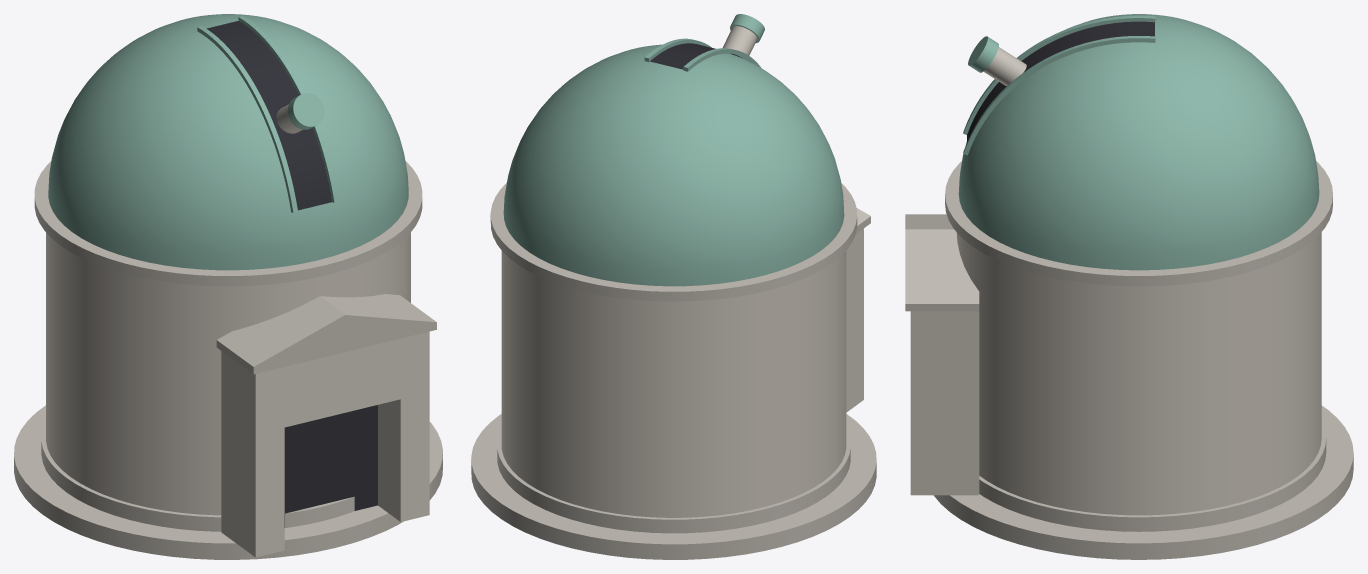
File: SM_Obs_Exterior.fbx
3 views of the same model, side by side, from view 1: azimuth 30°, elevation 25°; view 2: azimuth 150°, elevation 25°; view 3: azimuth 270°, elevation 25° (orthographic). The views are drawn at different scales.
Parts seen in each view (by area): view 1: SM_Obs_Exterior; view 2: SM_Obs_Exterior; view 3: SM_Obs_Exterior.
Part boxes in pixels (left/top/right/bottom): SM_Obs_Exterior: left=14, top=14, right=442, bottom=559; SM_Obs_Exterior: left=471, top=14, right=876, bottom=559; SM_Obs_Exterior: left=905, top=14, right=1353, bottom=559.
Size of the model in its own units: 940 by 1069 by 982.
